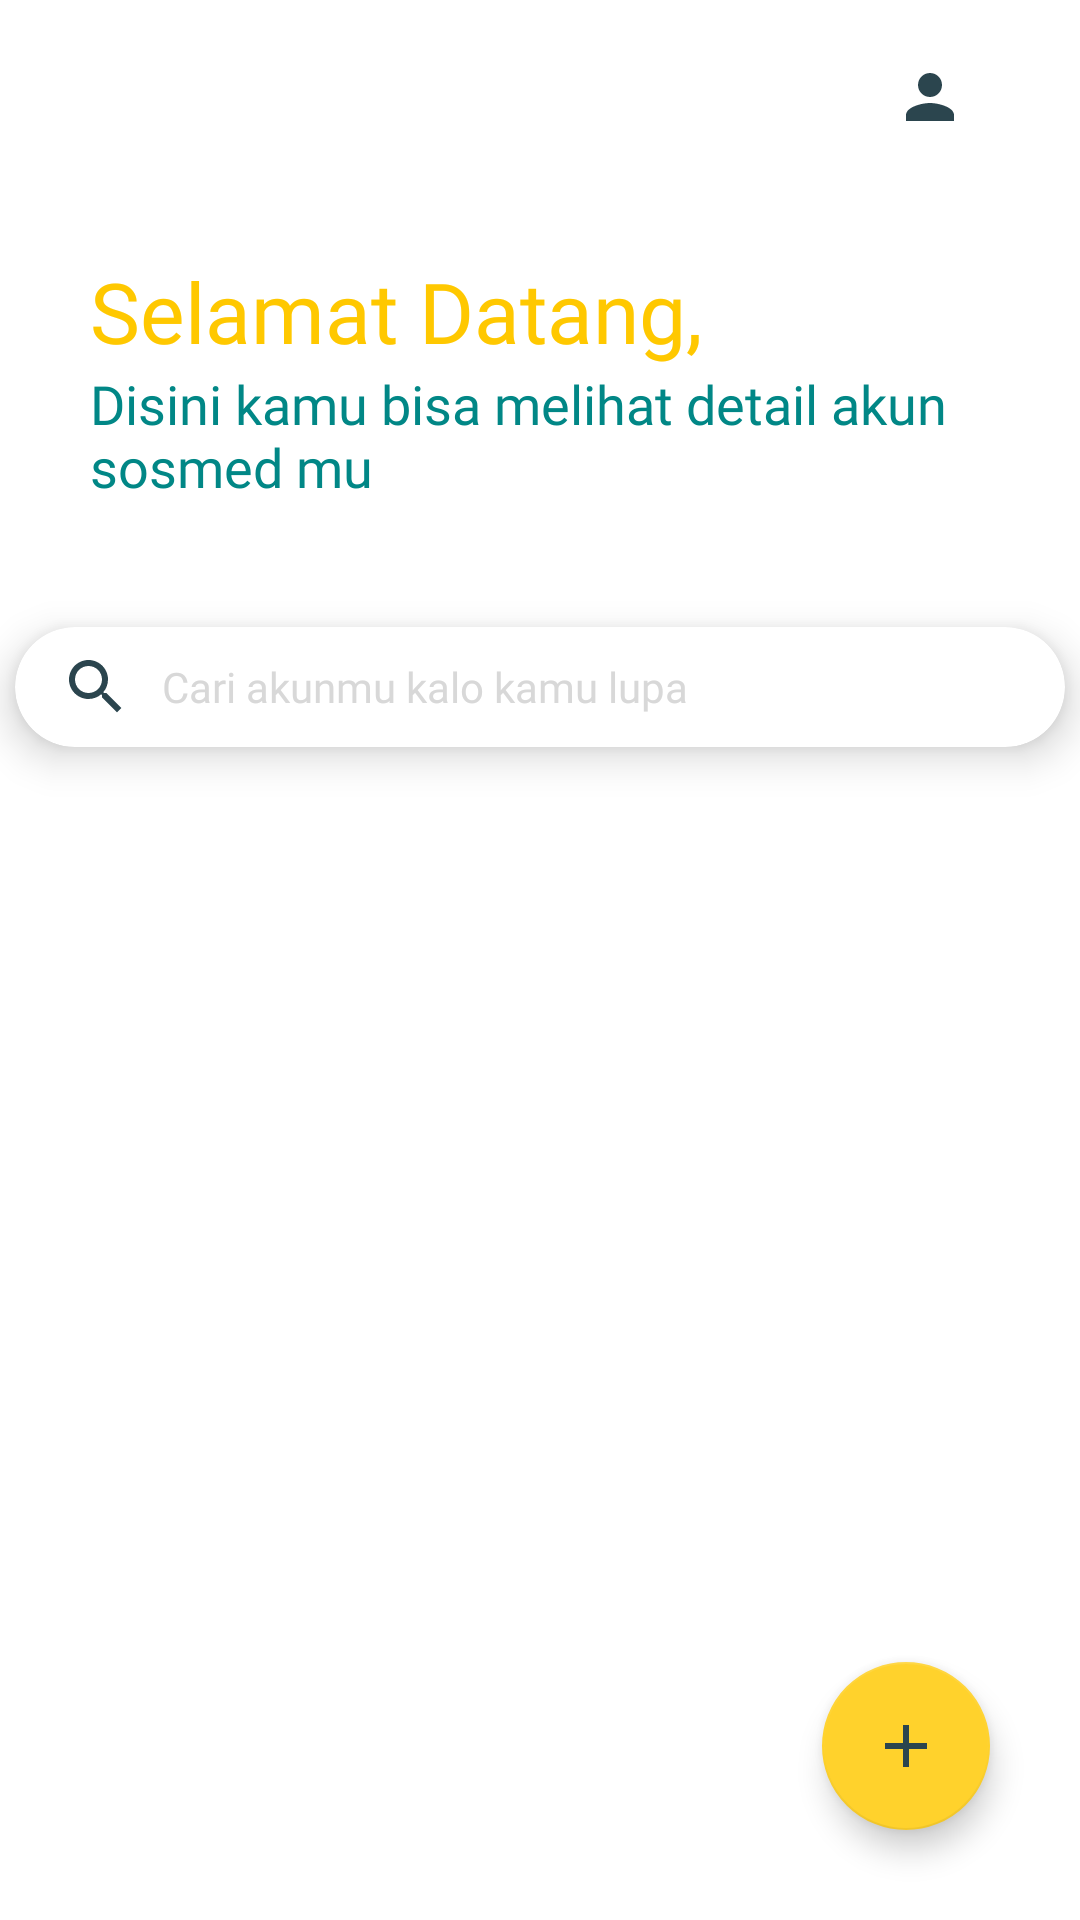

Screen size 1080 × 1920. Icon name, then its box in pixels as {"x1": x1, "y1": y1, "x2": x2, "y2": y2}:
add: {"x1": 822, "y1": 1662, "x2": 990, "y2": 1830}
person: {"x1": 906, "y1": 73, "x2": 954, "y2": 121}
